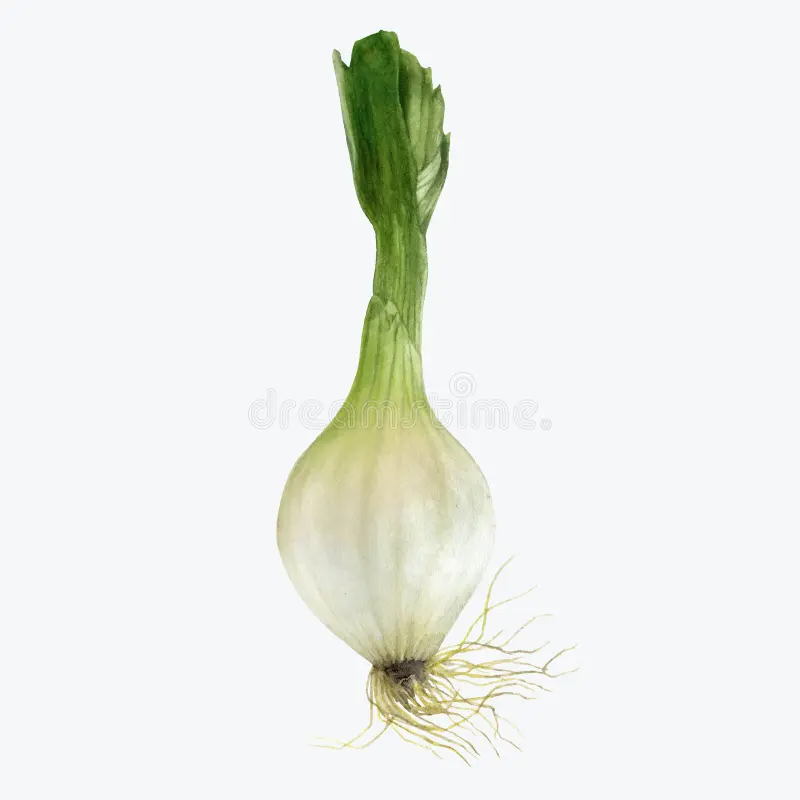onion: (230, 18, 593, 721)
